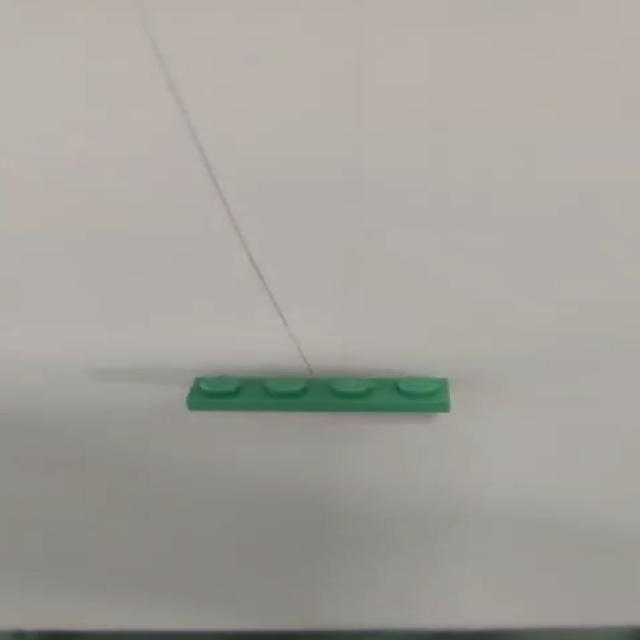C4x1x0: (118, 371, 452, 414)
